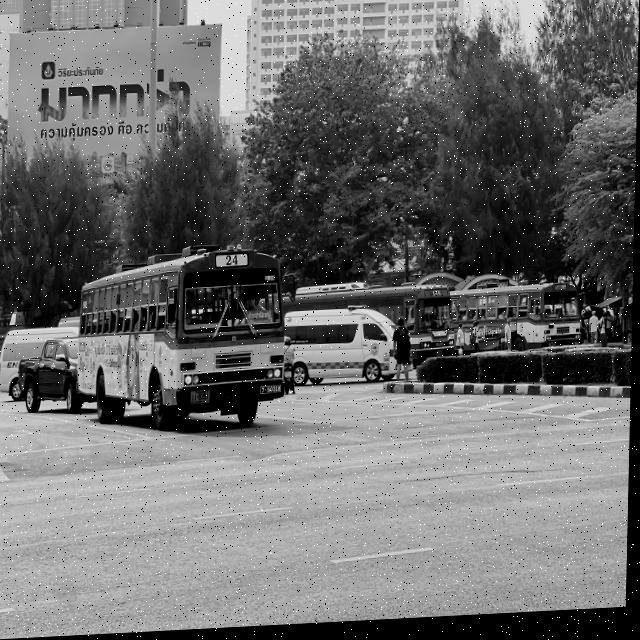BMTA-bus: (77, 246, 296, 438), (452, 279, 591, 363)
Bus-Line-Number: (218, 255, 250, 270)
Destination-Sign-Normal: (247, 313, 276, 327)
